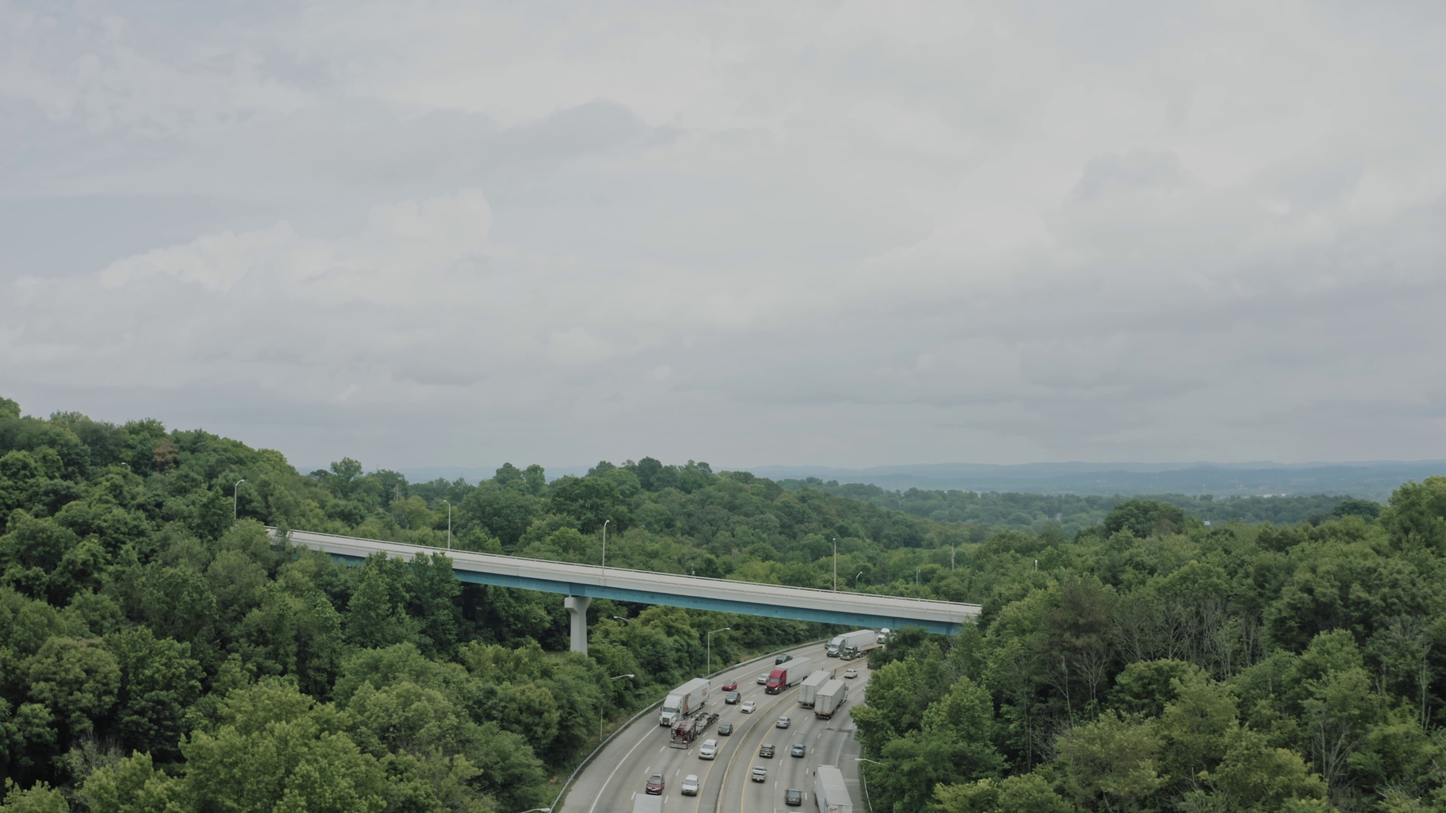Vehicle: (656, 691, 688, 727), (669, 717, 696, 750), (809, 763, 840, 788), (763, 671, 791, 695), (827, 634, 848, 660), (698, 739, 718, 760), (646, 773, 665, 795), (681, 774, 699, 796), (820, 668, 840, 687), (878, 627, 896, 647), (784, 789, 802, 806), (839, 646, 858, 661), (751, 766, 767, 782), (759, 743, 775, 758), (740, 700, 756, 714), (725, 691, 741, 705), (718, 722, 733, 736), (791, 744, 806, 758), (775, 654, 793, 665), (776, 716, 791, 729), (721, 680, 737, 691), (757, 673, 770, 685), (844, 669, 858, 679)
